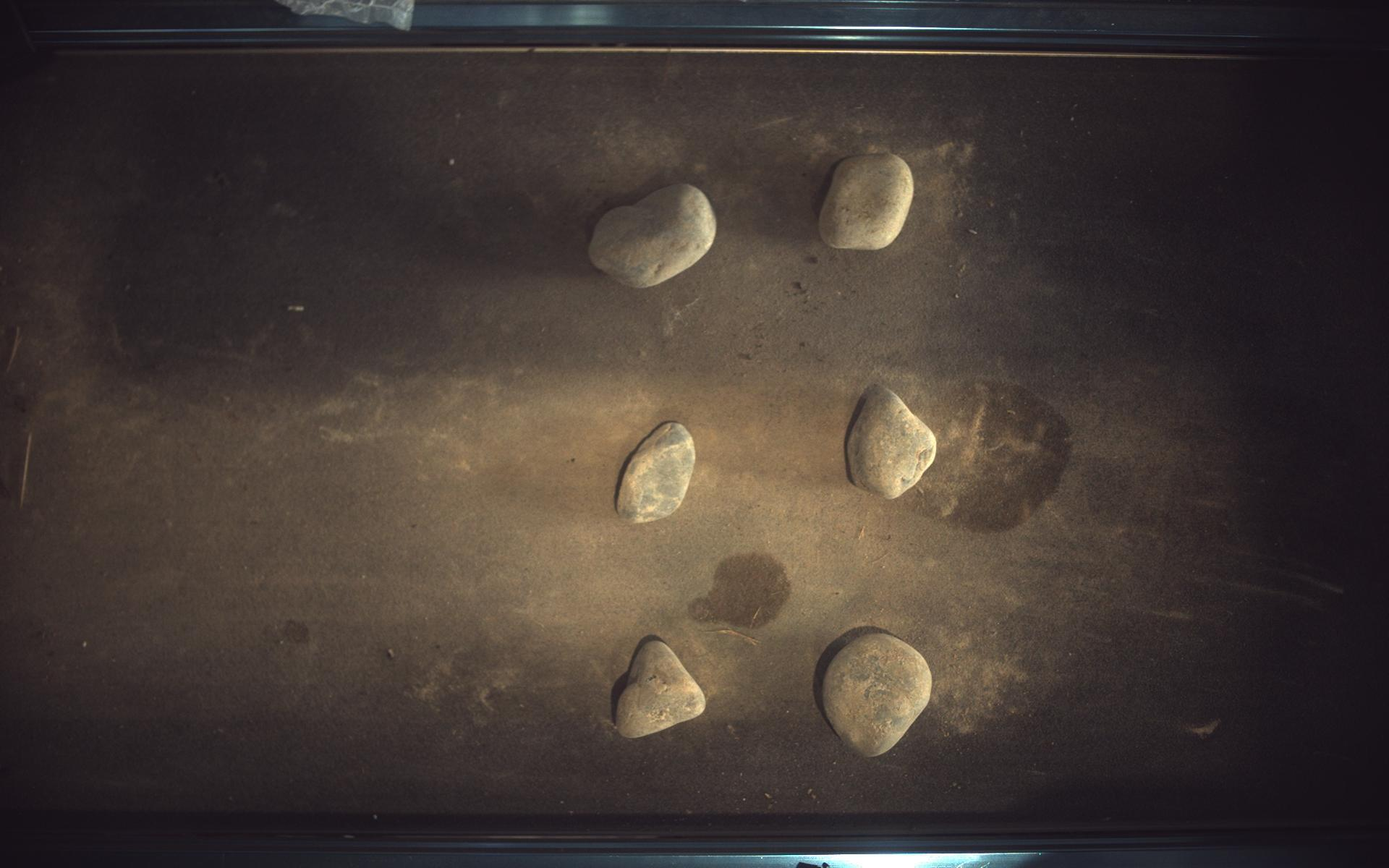stone: (824, 634, 934, 758), (589, 183, 718, 288), (849, 384, 938, 499), (820, 153, 915, 249), (618, 641, 706, 739), (617, 422, 697, 524)
